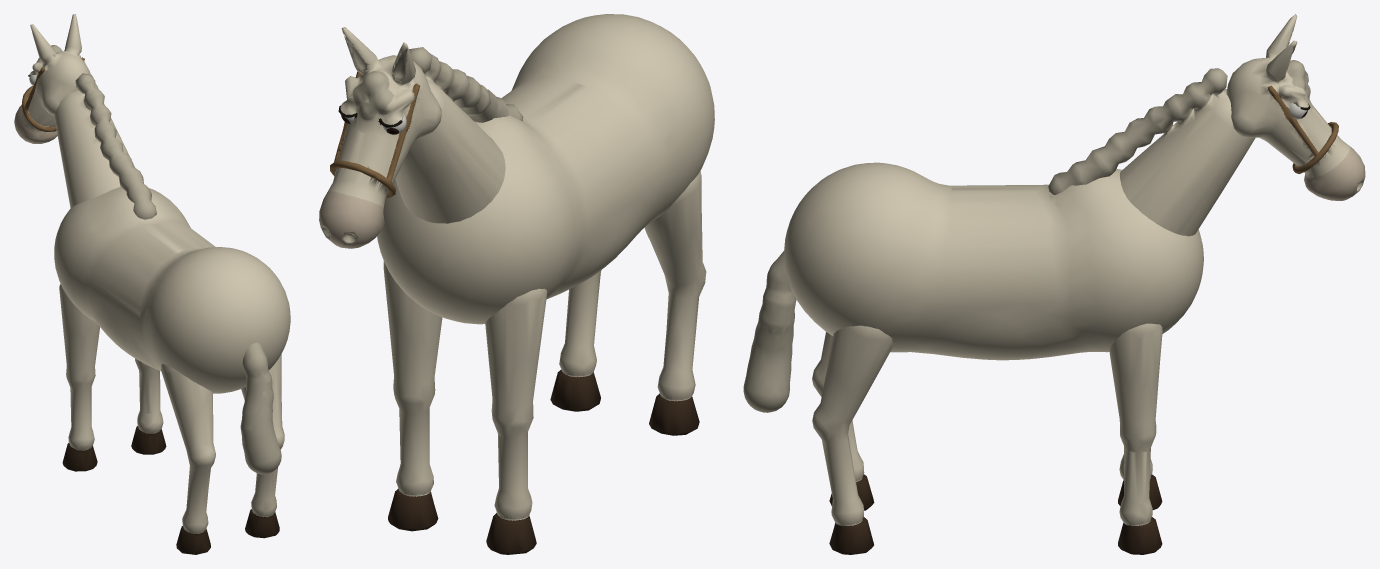
Rendered from horse-white.glb.
The picture shows the model from 3 angles, left to right: view 1: azimuth 30°, elevation 25°; view 2: azimuth 150°, elevation 25°; view 3: azimuth 270°, elevation 25°; orthographic projection. The views are drawn at different scales.
Visible parts, largest first — view 1: body_lod0, neck_lod0, leg_2_lod0, head_lod0, leg_0_lod0, tail_lod0, leg_3_lod0, leg_1_lod0; view 2: body_lod0, head_lod0, neck_lod0, leg_0_lod0, leg_1_lod0, leg_2_lod0, leg_3_lod0; view 3: body_lod0, neck_lod0, head_lod0, leg_3_lod0, leg_1_lod0, tail_lod0, leg_2_lod0.
Boxes of the visible parts, x1=… form: body_lod0: x1=54, y1=187, x2=290, y2=393; neck_lod0: x1=54, y1=73, x2=156, y2=219; leg_2_lod0: x1=161, y1=364, x2=215, y2=554; head_lod0: x1=14, y1=14, x2=98, y2=143; leg_0_lod0: x1=59, y1=284, x2=99, y2=471; tail_lod0: x1=240, y1=342, x2=281, y2=474; leg_3_lod0: x1=241, y1=354, x2=284, y2=538; leg_1_lod0: x1=131, y1=358, x2=166, y2=454; body_lod0: x1=377, y1=14, x2=714, y2=324; head_lod0: x1=319, y1=27, x2=441, y2=248; neck_lod0: x1=395, y1=47, x2=523, y2=223; leg_0_lod0: x1=485, y1=288, x2=547, y2=554; leg_1_lod0: x1=383, y1=261, x2=442, y2=531; leg_2_lod0: x1=644, y1=171, x2=706, y2=435; leg_3_lod0: x1=550, y1=270, x2=601, y2=411; body_lod0: x1=784, y1=162, x2=1203, y2=360; neck_lod0: x1=1048, y1=68, x2=1255, y2=236; head_lod0: x1=1226, y1=14, x2=1365, y2=200; leg_3_lod0: x1=812, y1=325, x2=892, y2=554; leg_1_lod0: x1=1109, y1=323, x2=1162, y2=554; tail_lod0: x1=743, y1=250, x2=796, y2=412; leg_2_lod0: x1=812, y1=332, x2=874, y2=510.
Size of what is drawn, in the model's own units: 0.9409 by 2.84 by 3.22.
